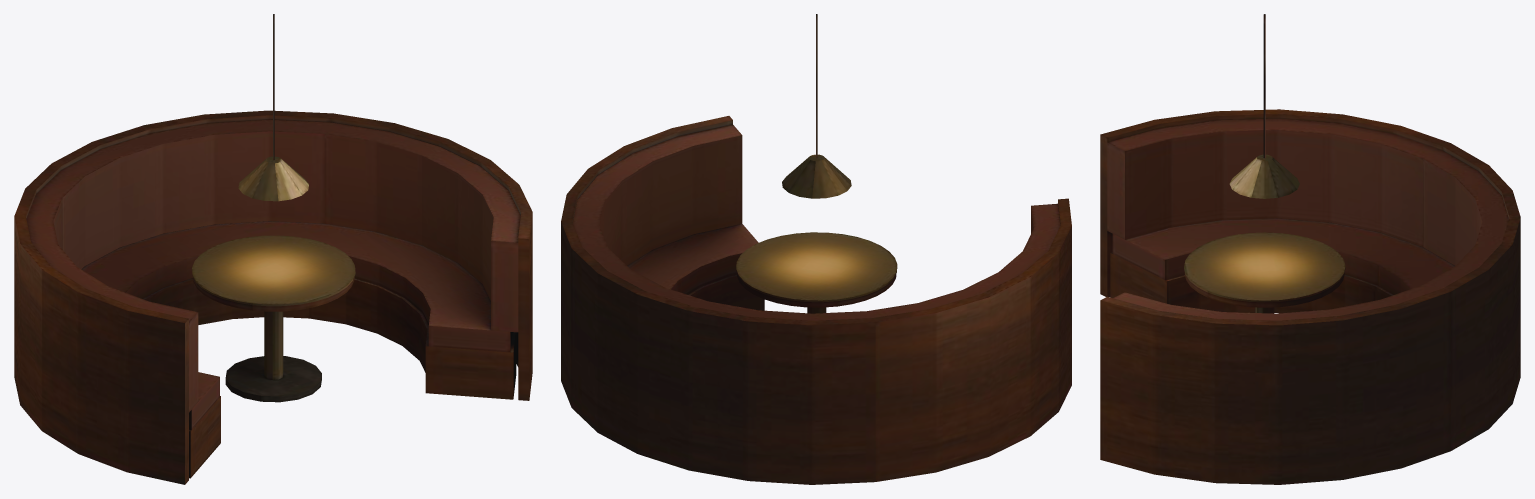
Rendered from cantina_booth.glb.
3 renders of one model, left to right at view 1: azimuth 30°, elevation 25°; view 2: azimuth 150°, elevation 25°; view 3: azimuth 270°, elevation 25°, orthographic.
Parts seen in each view (by area): view 1: cantina_booth; view 2: cantina_booth; view 3: cantina_booth.
Part boxes in pixels (x1,y1,x2,y2): cantina_booth: (14,14,532,484); cantina_booth: (561,14,1071,484); cantina_booth: (1100,14,1520,484).
Bounding box in the file's own units: 3.19 × 2.5 × 2.63.
2 materials, 1 textured.
